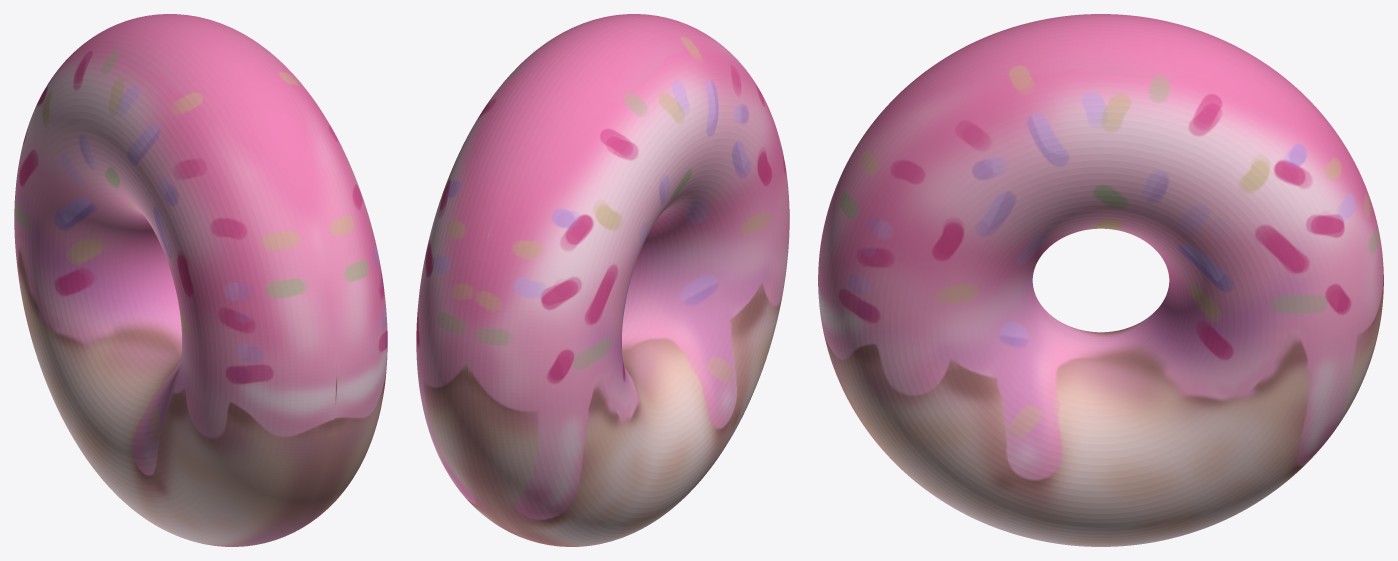
File: Donut.fbx
The picture shows the model from 3 angles, left to right: view 1: azimuth 30°, elevation 25°; view 2: azimuth 150°, elevation 25°; view 3: azimuth 270°, elevation 25°; orthographic projection. The views are drawn at different scales.
Visible parts, largest first — view 1: Torus.001; view 2: Torus.001; view 3: Torus.001.
Part boxes in pixels (left/top/right/bottom): Torus.001: left=14, top=14, right=387, bottom=546; Torus.001: left=416, top=14, right=789, bottom=546; Torus.001: left=818, top=14, right=1383, bottom=546.
Bounding box in the file's own units: 292 × 769 × 769.
